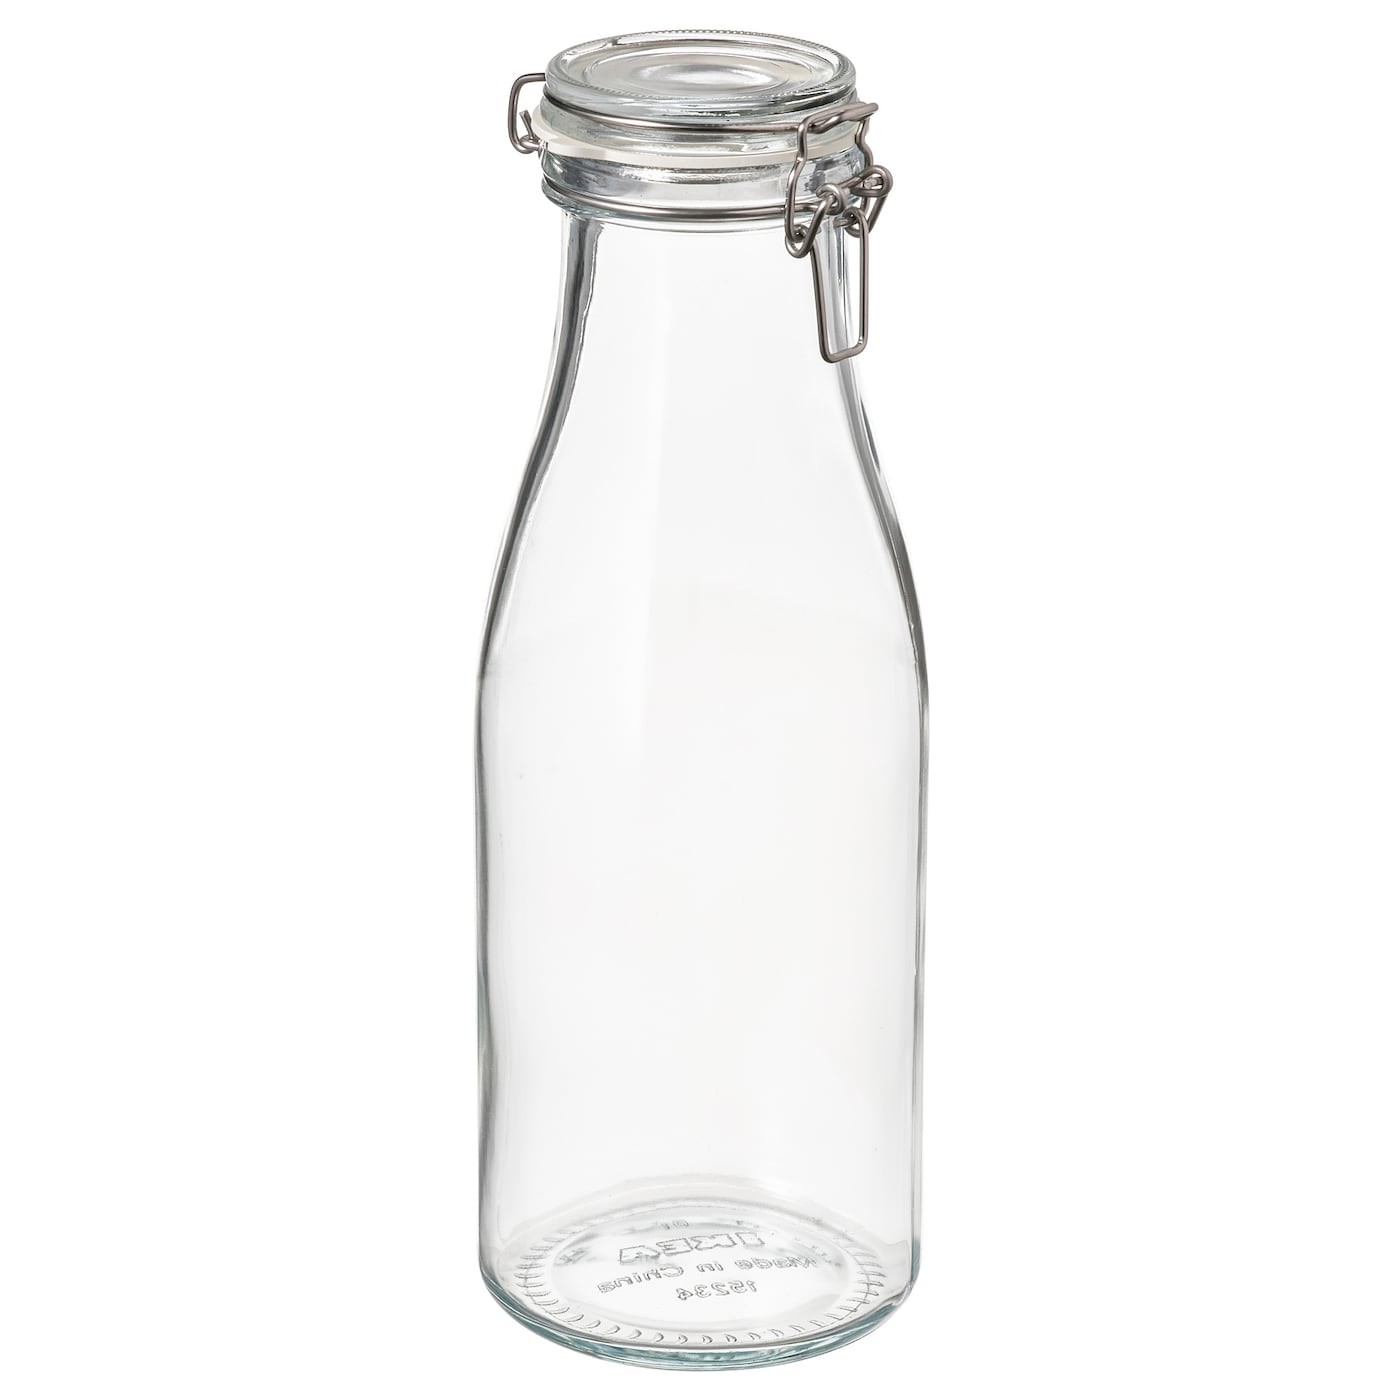glass_bottle: (437, 12, 971, 1385)
